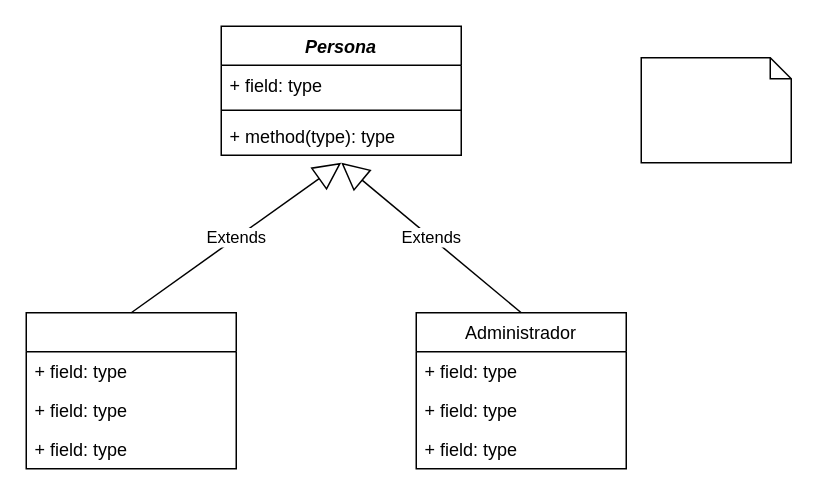
Some shapes in this 818 by 500 pixel diagram are drawn without their labels. Here are the shapes that lost their labels. From the top down, the box of each, then its label:
(640, 56, 791, 163): Prueba. ?Funciona?
(25, 311, 236, 469): Usuario
